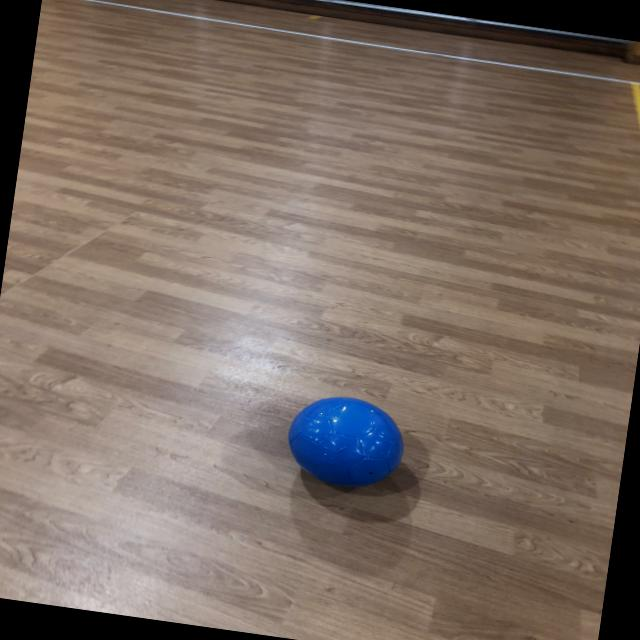blue_ball: (292, 391, 416, 493)
